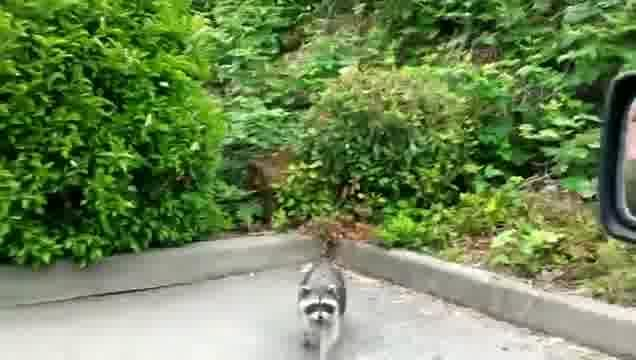raccoon: (296, 255, 350, 360)
